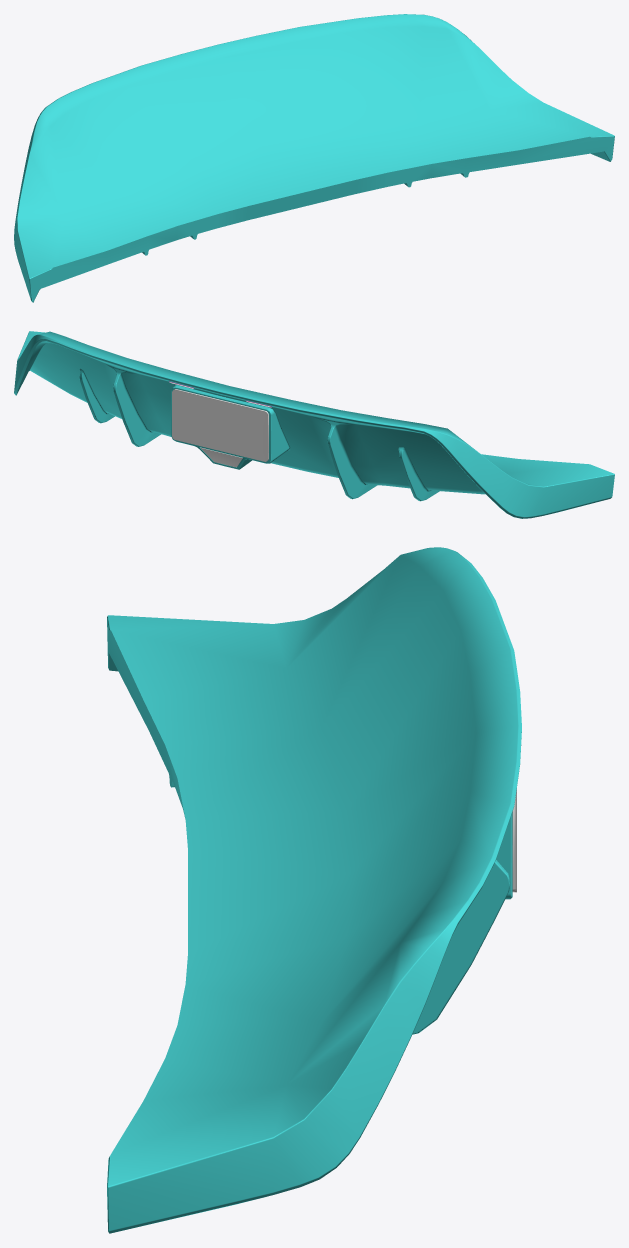
The model's file is Car_Ford_GT_2017_Diffuser_SetB_AltA.fbx.
3 views of the same model, one above another, from view 1: azimuth 30°, elevation 25°; view 2: azimuth 150°, elevation 25°; view 3: azimuth 270°, elevation 25° (orthographic). The views are drawn at different scales.
Parts seen in each view (by area): view 1: Diffuser 6; view 2: Diffuser 6; view 3: Diffuser 6.
Part boxes in pixels (x1,y1,x2,y2): Diffuser 6: (14, 14, 614, 302); Diffuser 6: (14, 331, 614, 518); Diffuser 6: (107, 547, 521, 1233).
Bounding box in the file's own units: 1.86 × 0.3436 × 0.5708.
